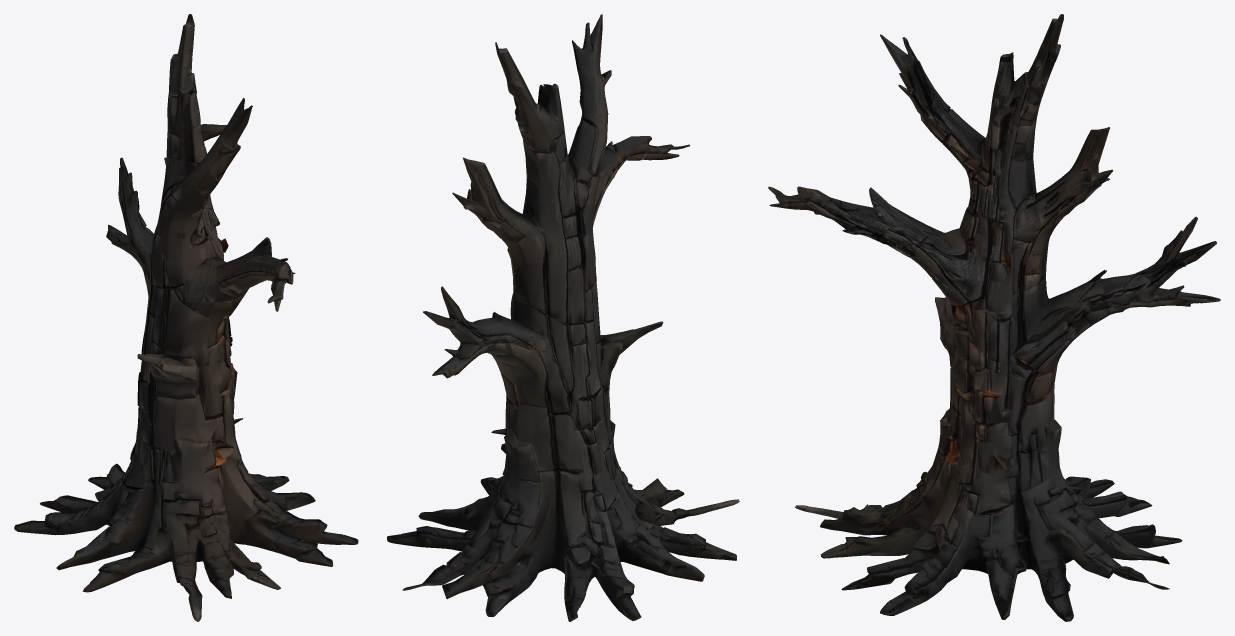
File: burnt_tree.glb
The picture shows the model from 3 angles, left to right: view 1: azimuth 30°, elevation 25°; view 2: azimuth 150°, elevation 25°; view 3: azimuth 270°, elevation 25°; orthographic projection. The views are drawn at different scales.
Visible parts, largest first — view 1: tripo_node_f010d96e-61b5-4a50-9d53-7b1fc6a75fe6; view 2: tripo_node_f010d96e-61b5-4a50-9d53-7b1fc6a75fe6; view 3: tripo_node_f010d96e-61b5-4a50-9d53-7b1fc6a75fe6.
Part boxes in pixels (x1,y1,x2,y2): tripo_node_f010d96e-61b5-4a50-9d53-7b1fc6a75fe6: (14,14,358,621); tripo_node_f010d96e-61b5-4a50-9d53-7b1fc6a75fe6: (387,14,739,621); tripo_node_f010d96e-61b5-4a50-9d53-7b1fc6a75fe6: (768,14,1220,621).
Bounding box in the file's own units: 0.5591 × 0.9834 × 0.7269.
Materials: 1 (1 with a texture image).
